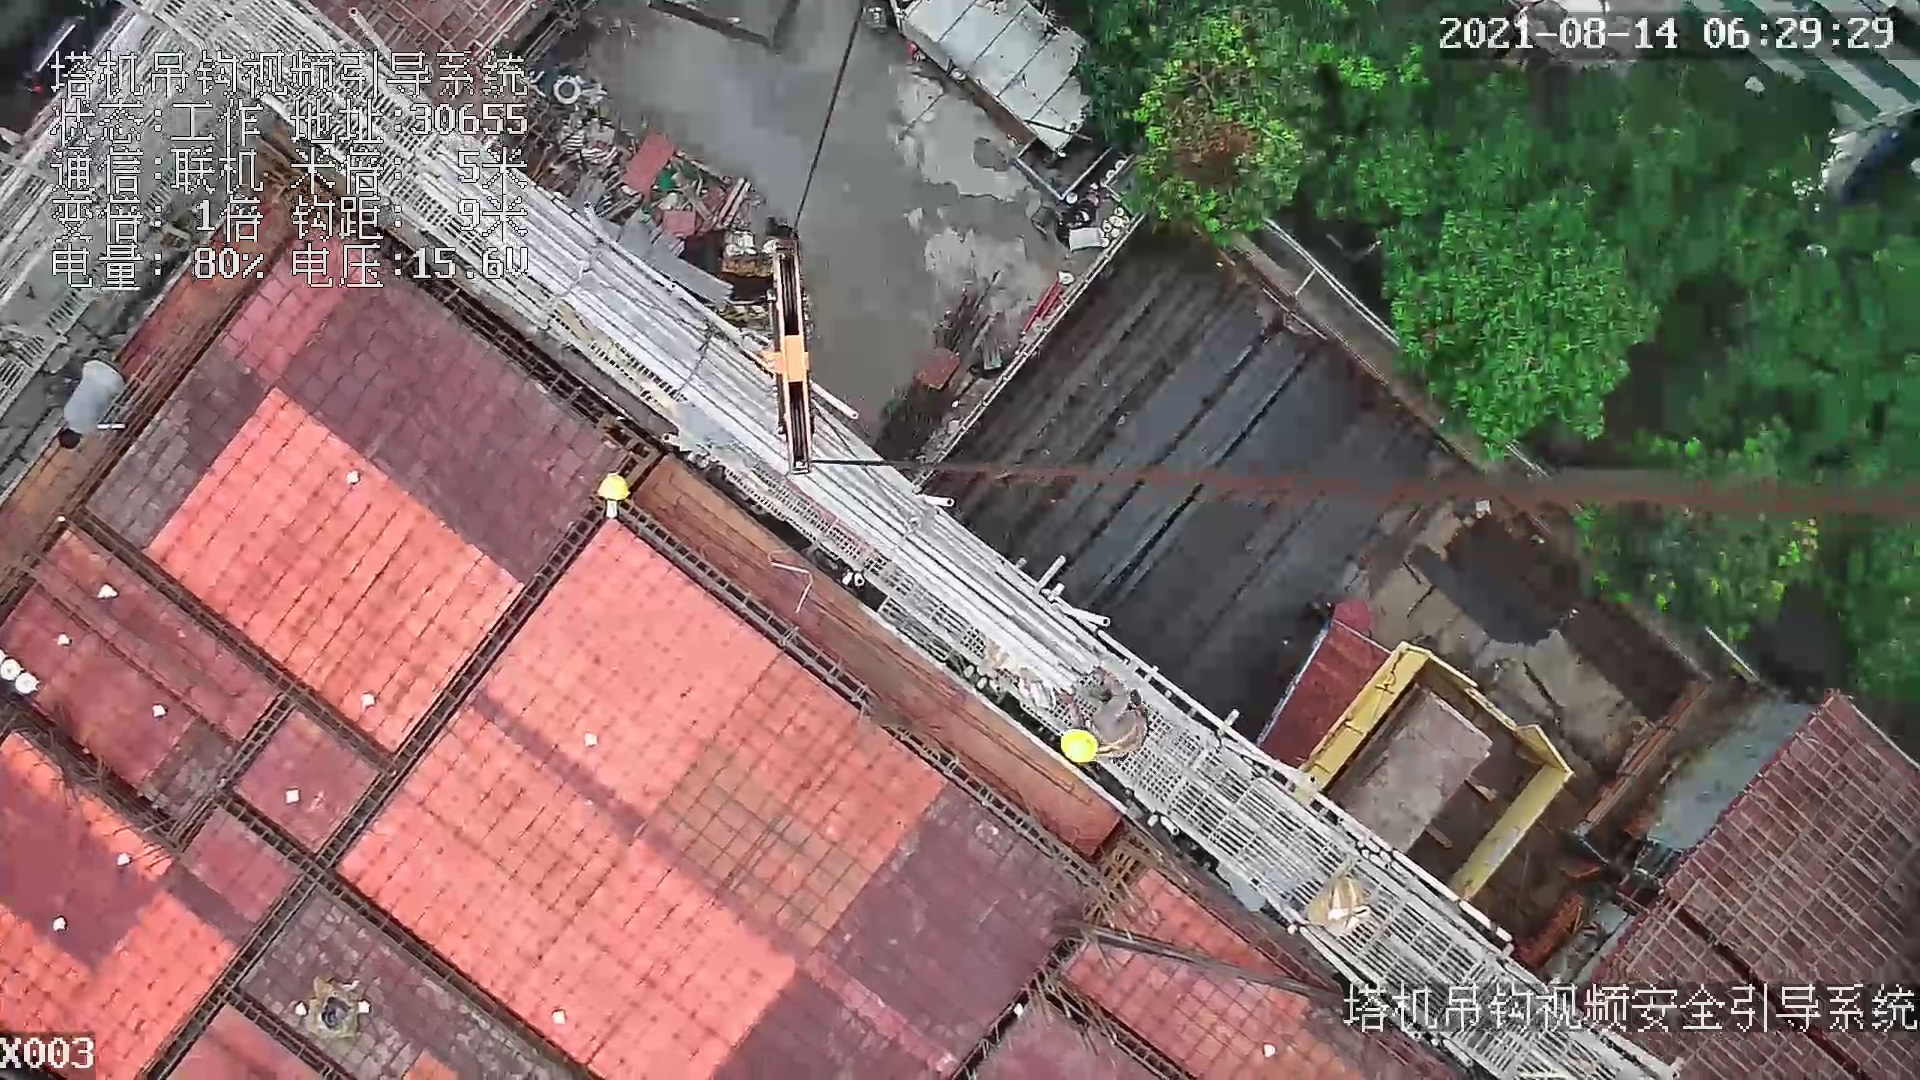helmet: (1062, 731, 1104, 771), (595, 474, 633, 505)
hook: (756, 231, 812, 477)
person: (1062, 677, 1149, 778)
rebar: (886, 213, 1442, 695)
